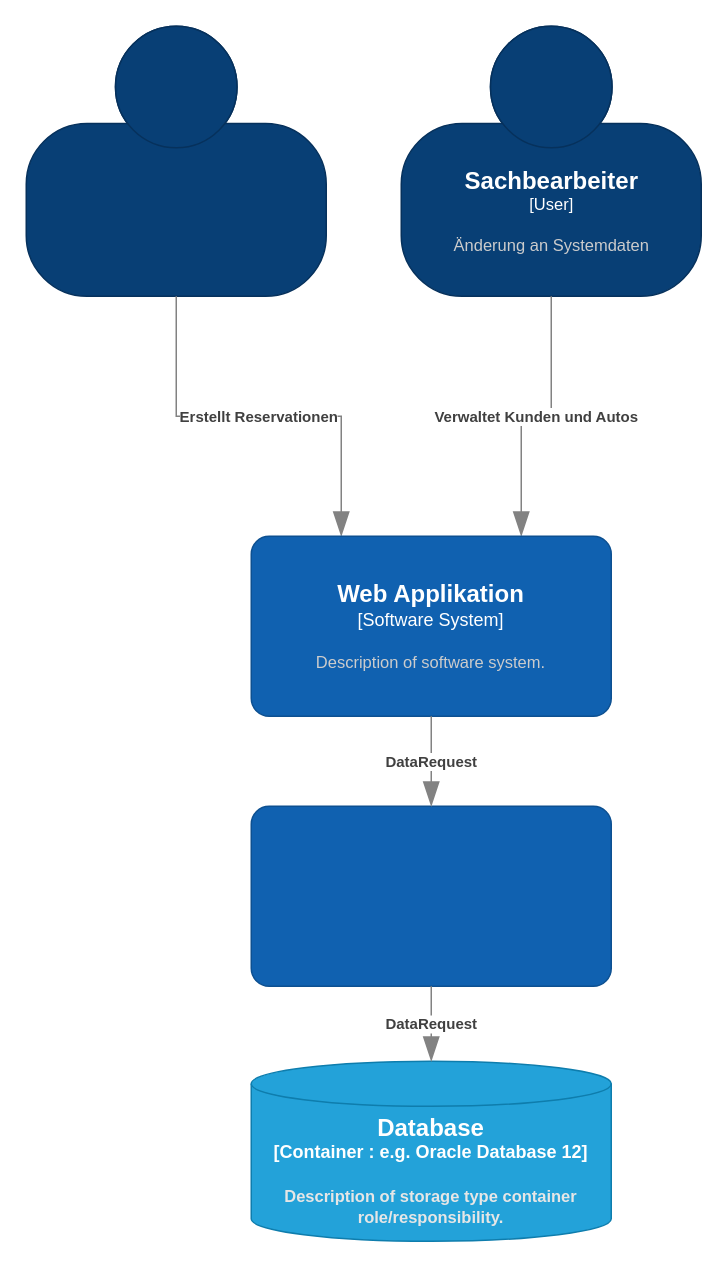
This 728x1268 diagram has some shape labels left out. The centre of each missing label's shape, as x and y in pixels:
"API Applikation [Software System] Description of software system." goes at point 430,895.
"Customer [User] Endkunde" goes at point 175,160.
